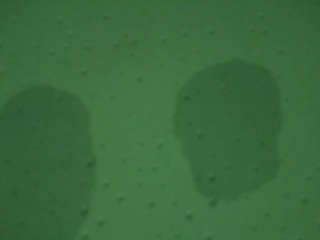Water_detected: (5, 109, 103, 230), (189, 80, 257, 169)
